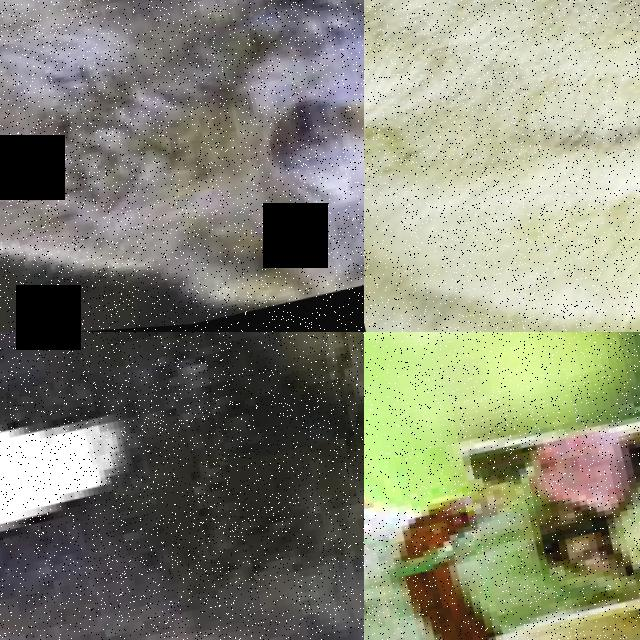dog: (364, 349, 640, 640)
wolf: (0, 0, 364, 332), (0, 332, 364, 640), (364, 0, 640, 332)
